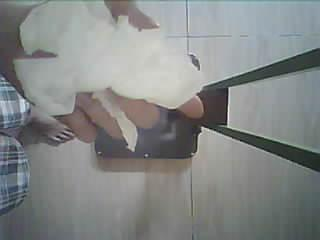paper: (14, 2, 200, 151)
